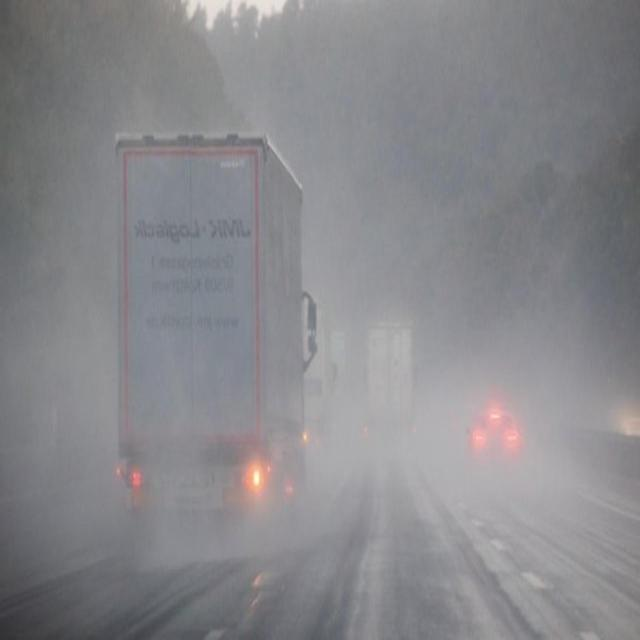Car: (464, 404, 522, 454)
Truck: (114, 132, 312, 521)
